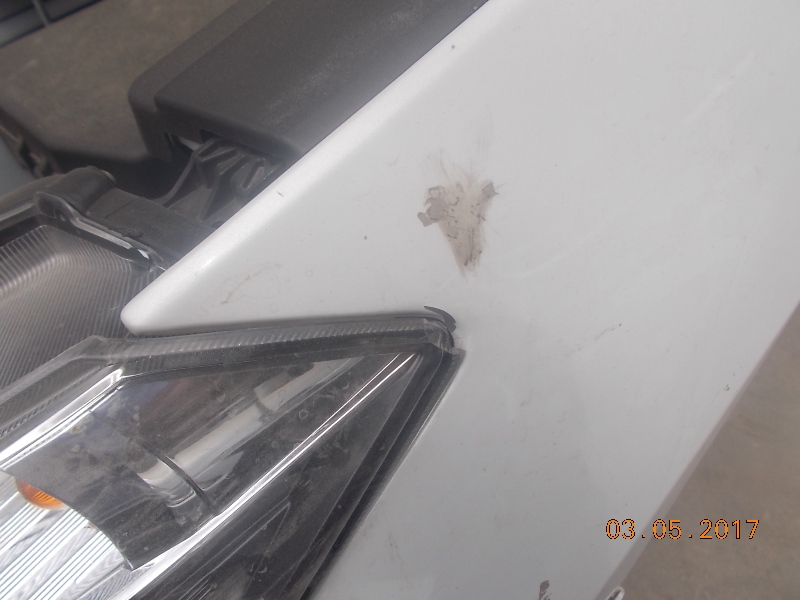Scratch_or_spot: (408, 182, 499, 266)
